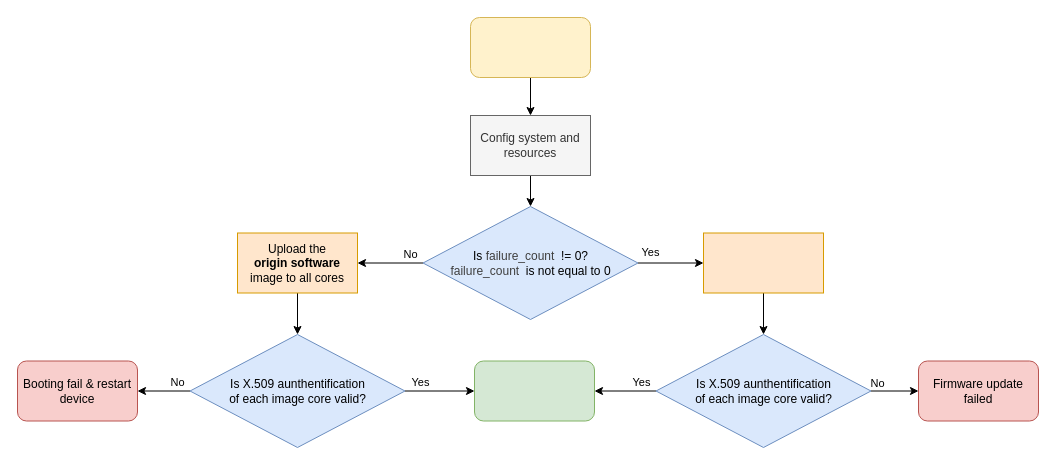
The diagram is 1056 pixels wide and 465 high, and some of its shapes have lost their labels. The box of each missing label's shape, as (x1, y1, x2, y2) in pixels:
Reboot all cores with loaded images: (474, 360, 594, 421)
Start bootloader: (470, 16, 590, 78)
Upload the new software image to all cores: (702, 232, 824, 293)
